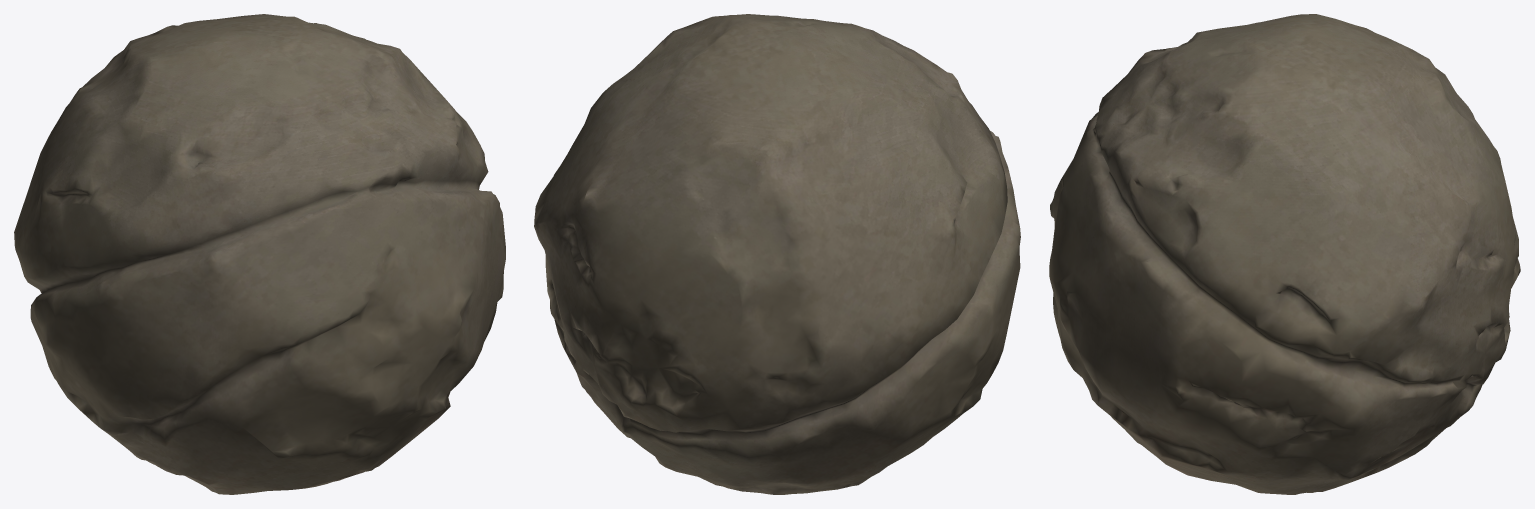
File: stone-projectile-ka-k92M7.glb
3 views of the same model, side by side, from view 1: azimuth 30°, elevation 25°; view 2: azimuth 150°, elevation 25°; view 3: azimuth 270°, elevation 25° (orthographic).
Parts seen in each view (by area): view 1: stone; view 2: stone; view 3: stone.
Part boxes in pixels (x1,y1,x2,y2): stone: (14, 14, 505, 494); stone: (534, 14, 1020, 494); stone: (1049, 14, 1520, 494).
Size of the model in its own units: 0.998 by 0.998 by 0.9863.
Materials: 1 (1 with a texture image).
